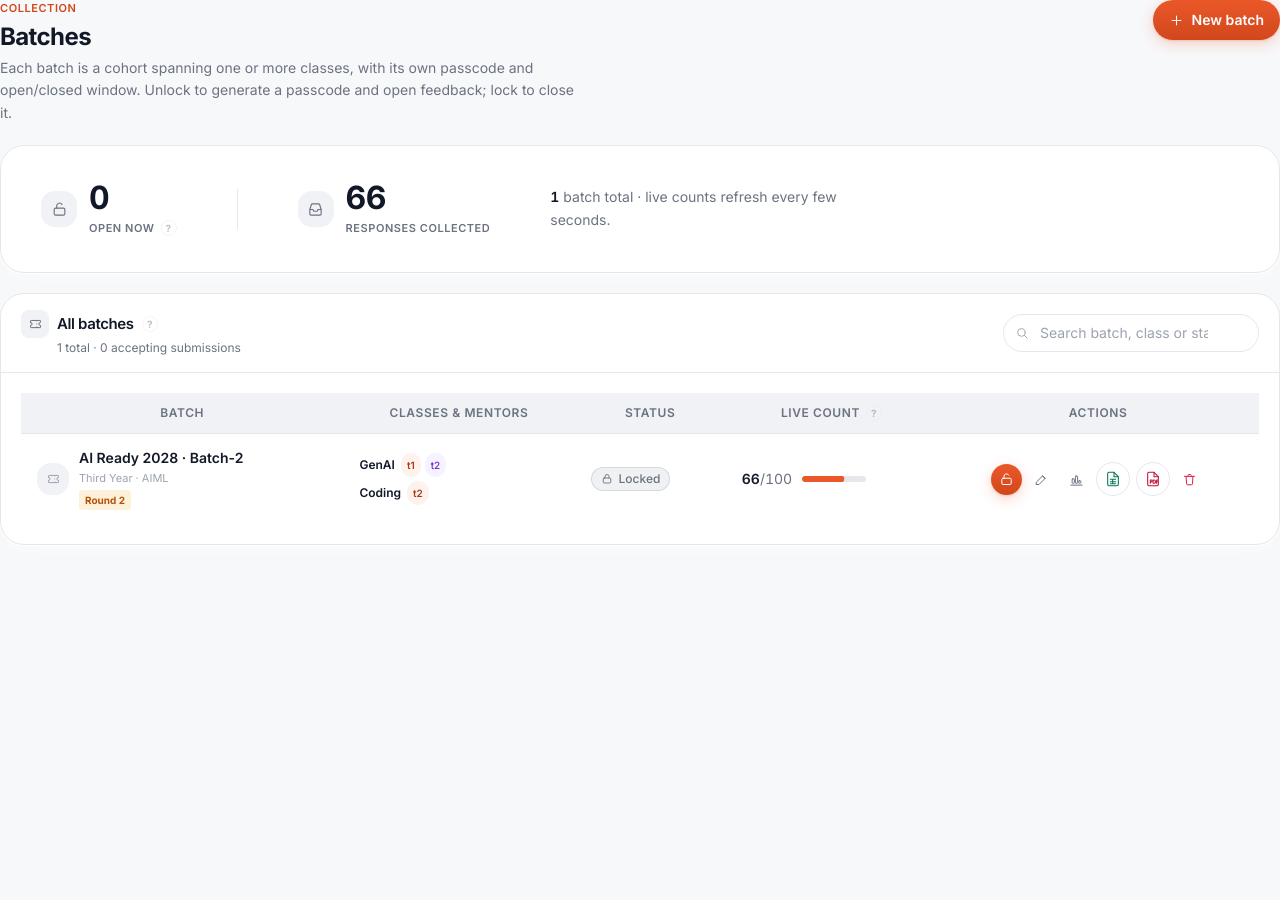
editing a batch › refuses to save a class left with no main mentor
Expected: the text "AI Ready 2028 · Batch-2" is shown, x1=79 y1=448 x2=244 y2=468
Click the button named "Edit this batch" at [1042, 479], box x1=1026 y1=464 x2=1057 y2=495
(page scrolled)
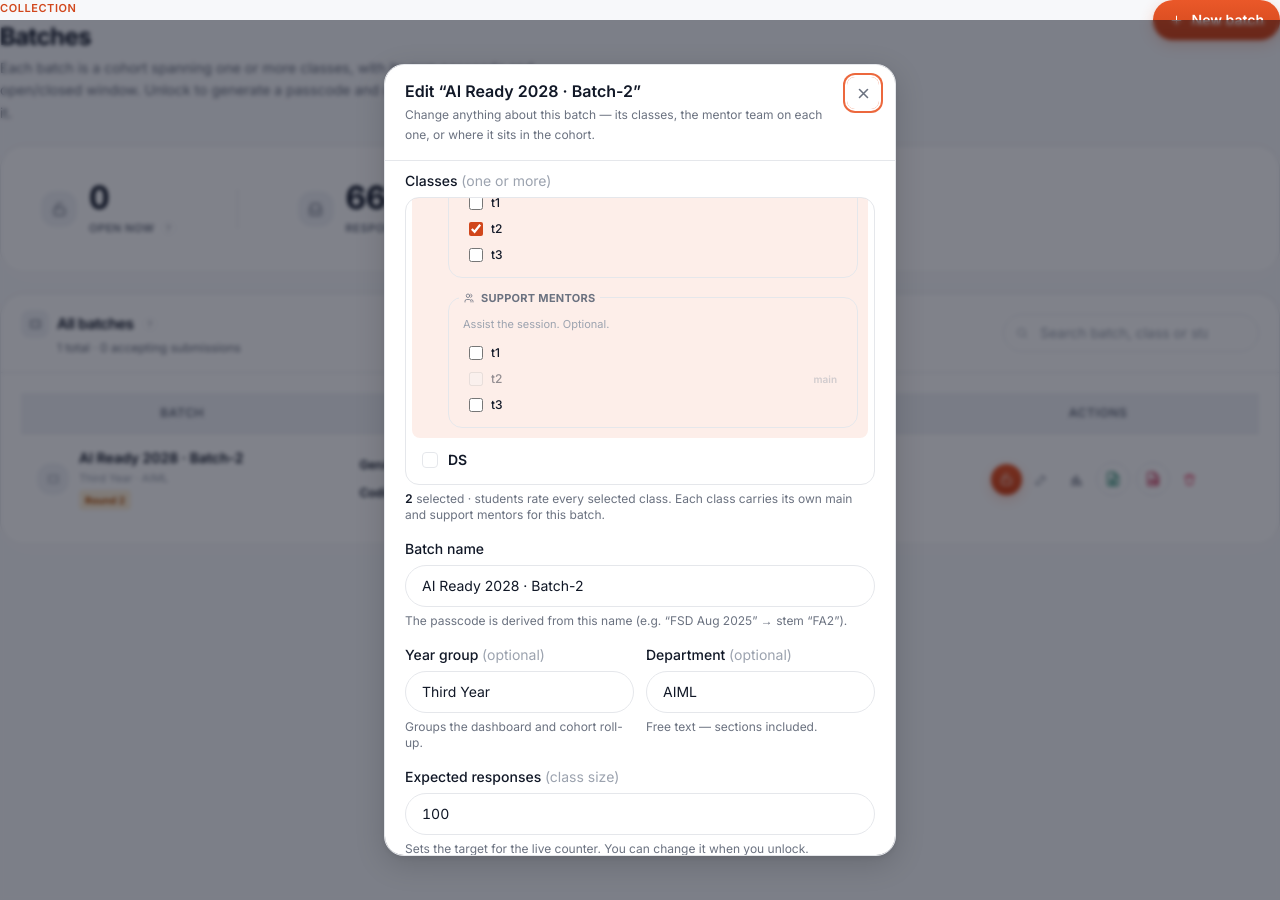
Click the button "DS" at [430, 460], box x1=412 y1=442 x2=868 y2=478
(page scrolled)
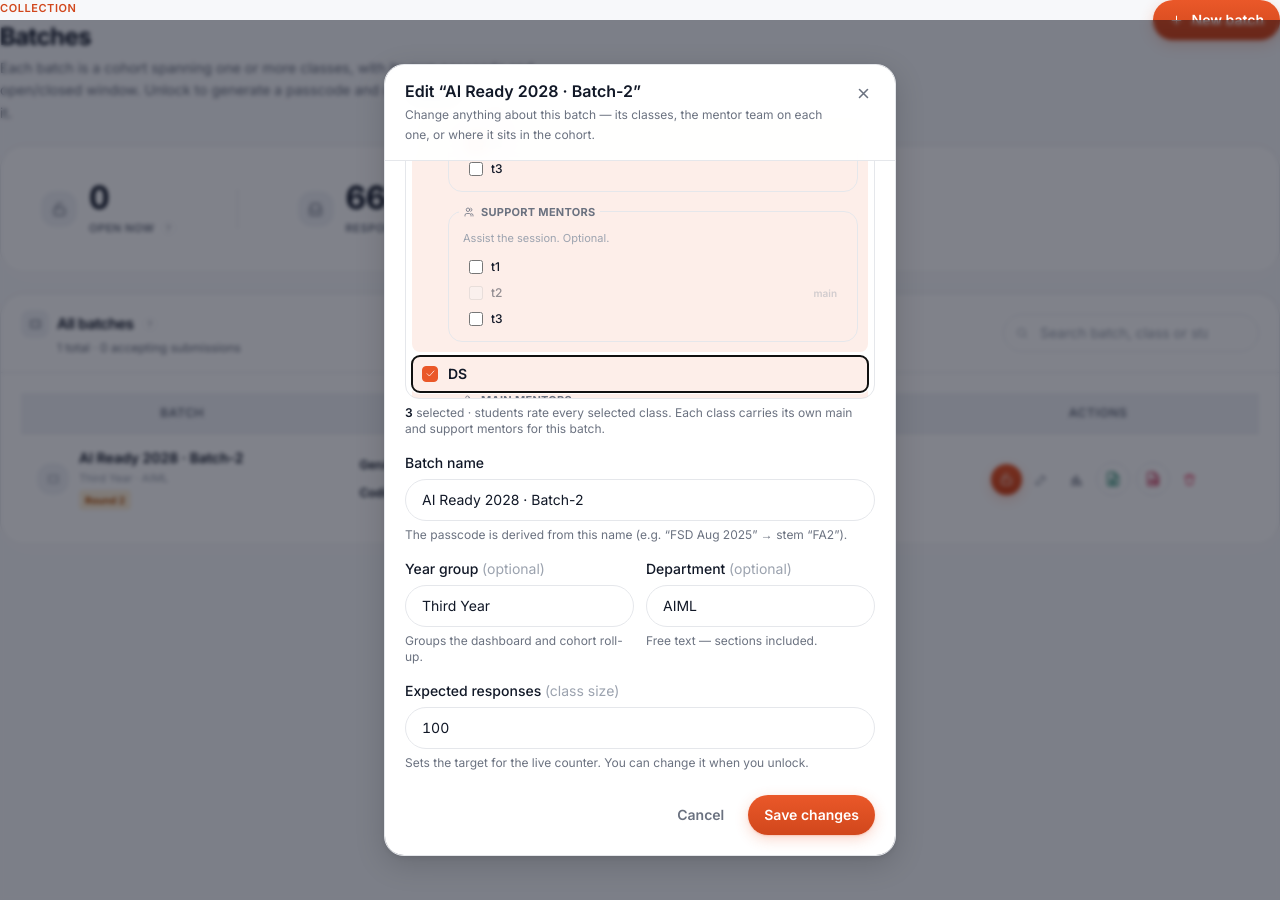
Click the button "Save changes" at [812, 815], box x1=748 y1=795 x2=875 y2=835
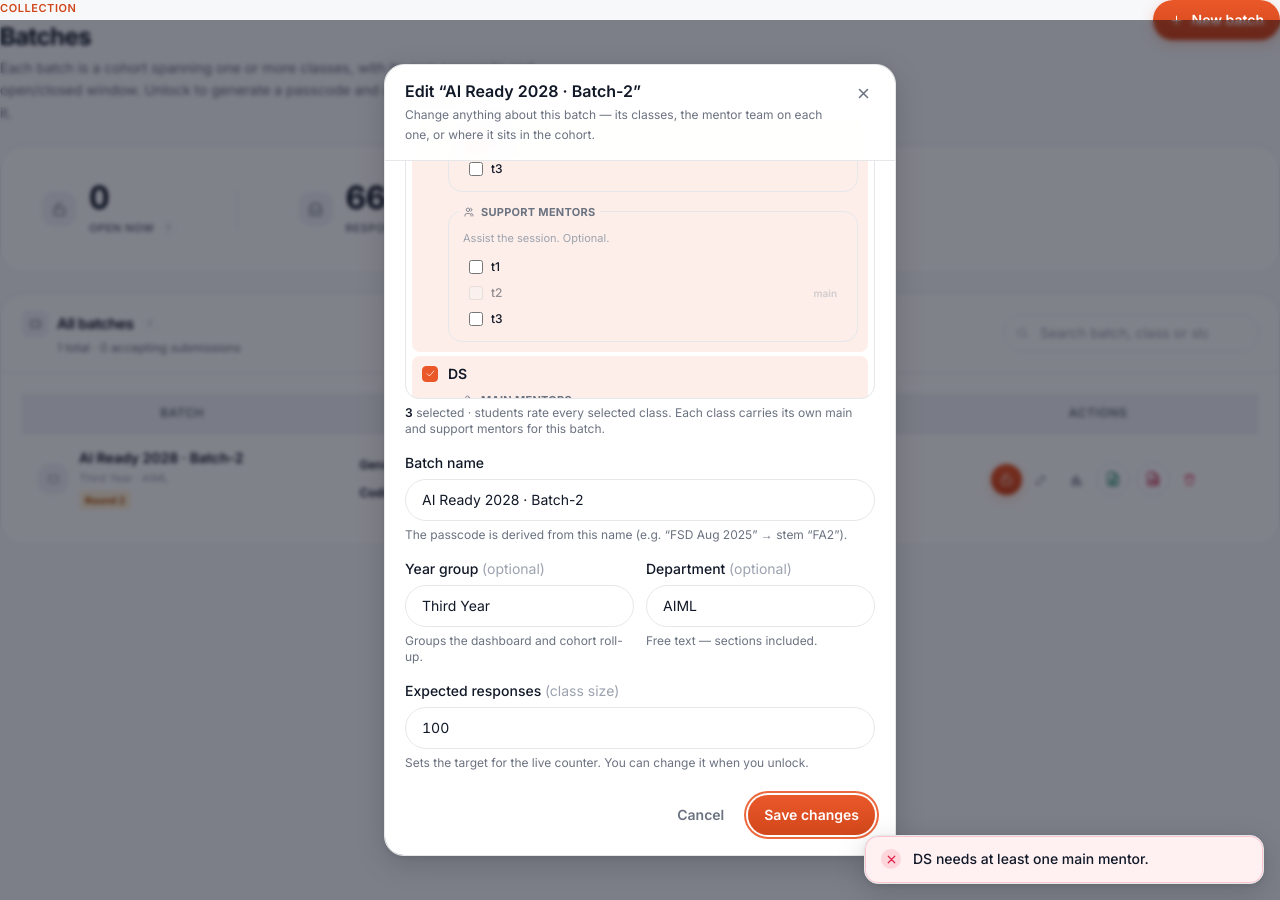
Expected: the text "DS needs at least one main mentor." is shown, x1=913 y1=850 x2=1149 y2=867
